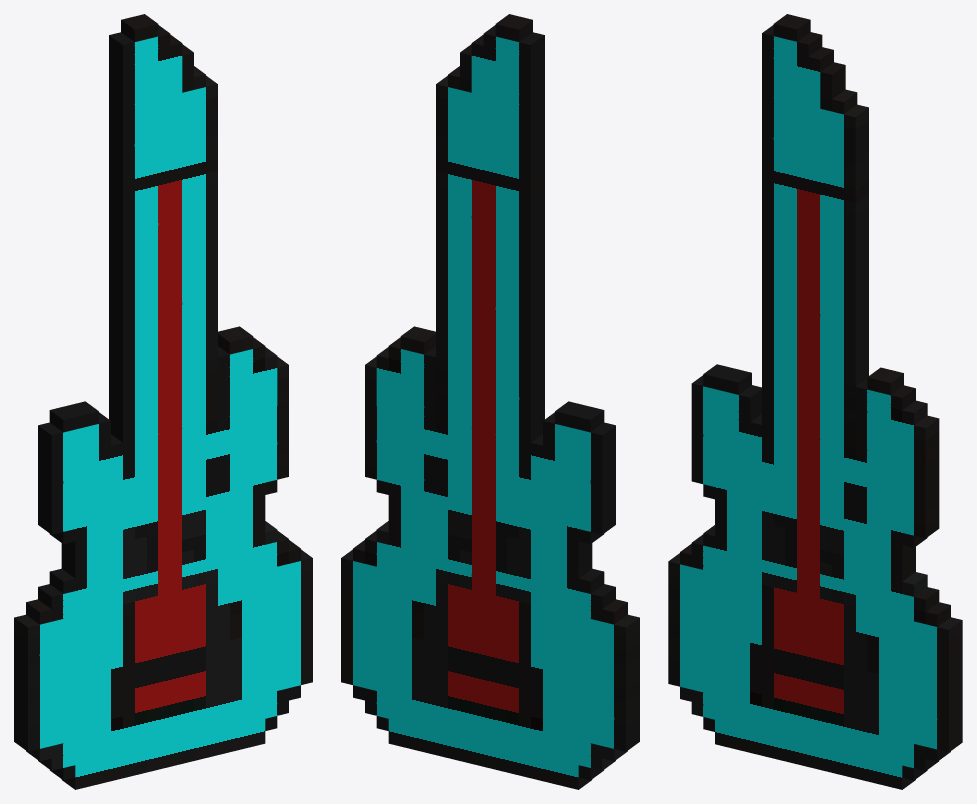
File: a_neon_pixel_guitare.glb
The picture shows the model from 3 angles, left to right: view 1: azimuth 30°, elevation 25°; view 2: azimuth 150°, elevation 25°; view 3: azimuth 330°, elevation 25°; orthographic projection.
Parts seen in each view (by area): view 1: Object_4; view 2: Object_4; view 3: Object_4.
Boxes of the visible parts, box(x1,y1,x2,y2) form: Object_4: box(14, 14, 312, 789); Object_4: box(341, 14, 639, 789); Object_4: box(668, 14, 962, 789).
Size of the model in its own units: 24 by 60 by 2.
1 material, 1 textured.
